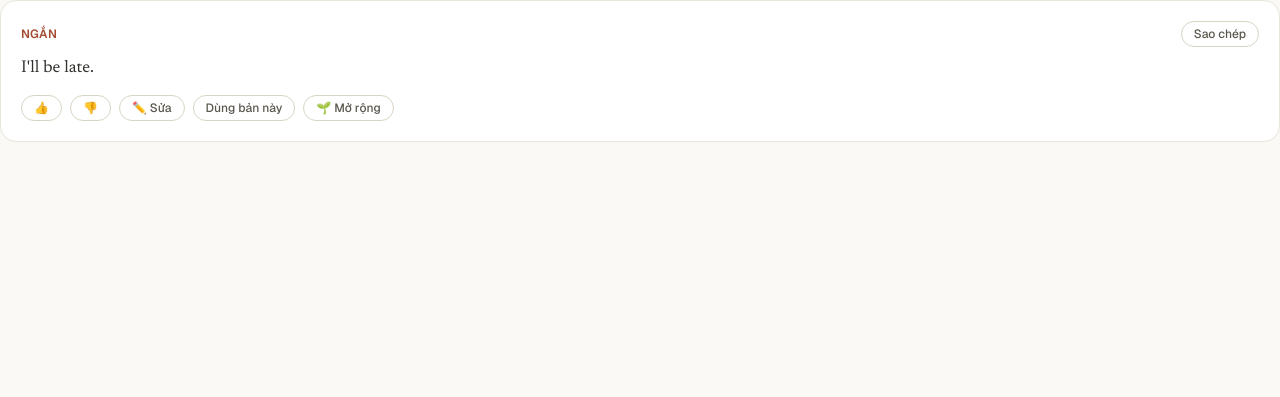
Test: DevelopableOption › keeps the direction when the request fails
The width and height of the screenshot is (1280, 397).
Expected: the button named "Bản nháp hay" is shown, [21,95,62,121]
Click the button with aria-label "Mở rộng bản nháp này": point(349, 108) [303,95,394,121]
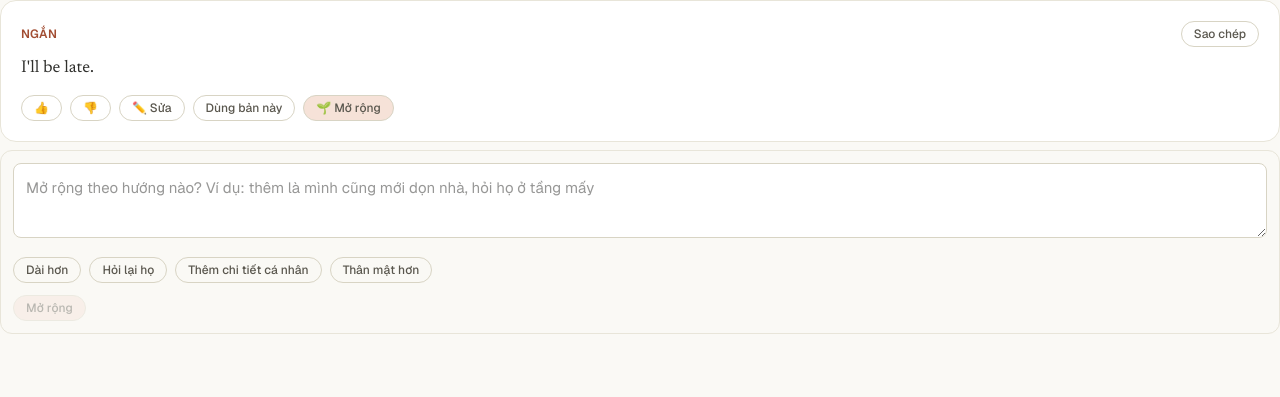
Replace the text in the text box named "mở rộng bản nháp này theo hướng nào" with "thêm lý do": point(640, 200) [13,163,1267,238]
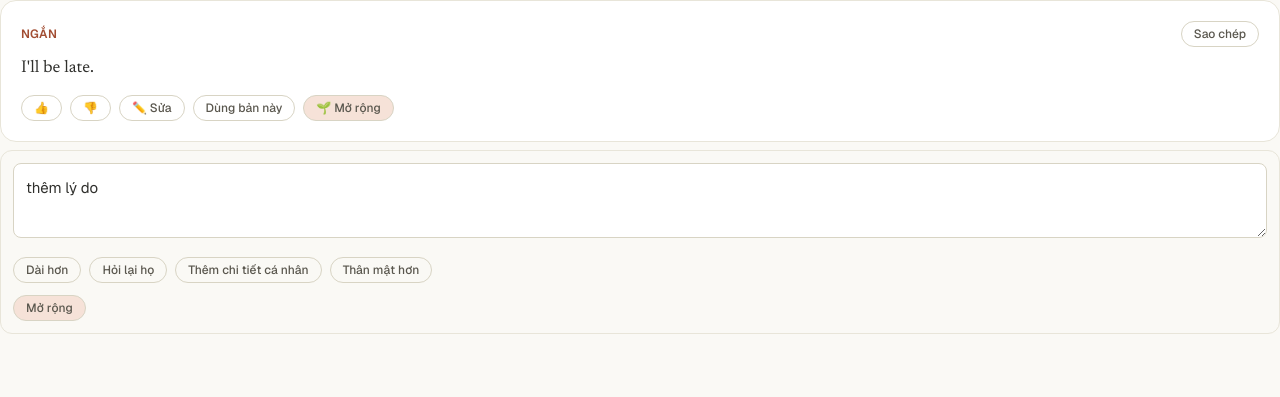
Click the button "Mở rộng": point(49, 308) [13,295,86,321]
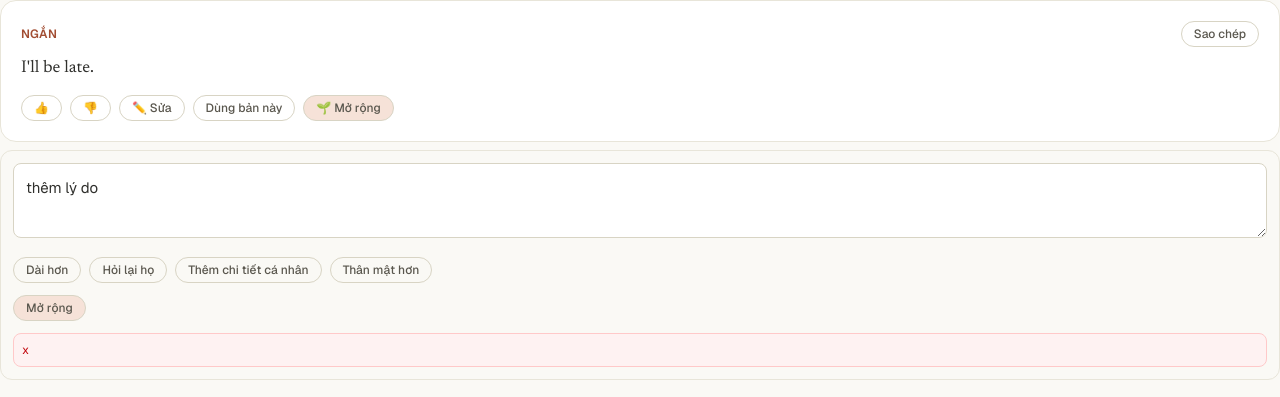
Now the message "x" is shown, box [13,333,1267,367]
